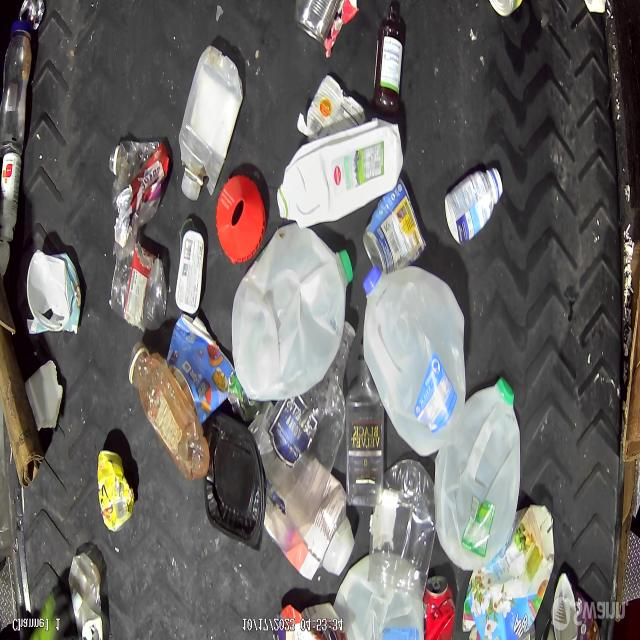can: (422, 571, 456, 640), (295, 0, 340, 46)
milk_jug: (230, 225, 353, 402), (362, 263, 465, 457), (432, 374, 524, 572), (276, 114, 402, 228), (334, 546, 428, 640)
non_white_jug: (460, 503, 556, 640)
plastic_bottle: (0, 25, 36, 153)
